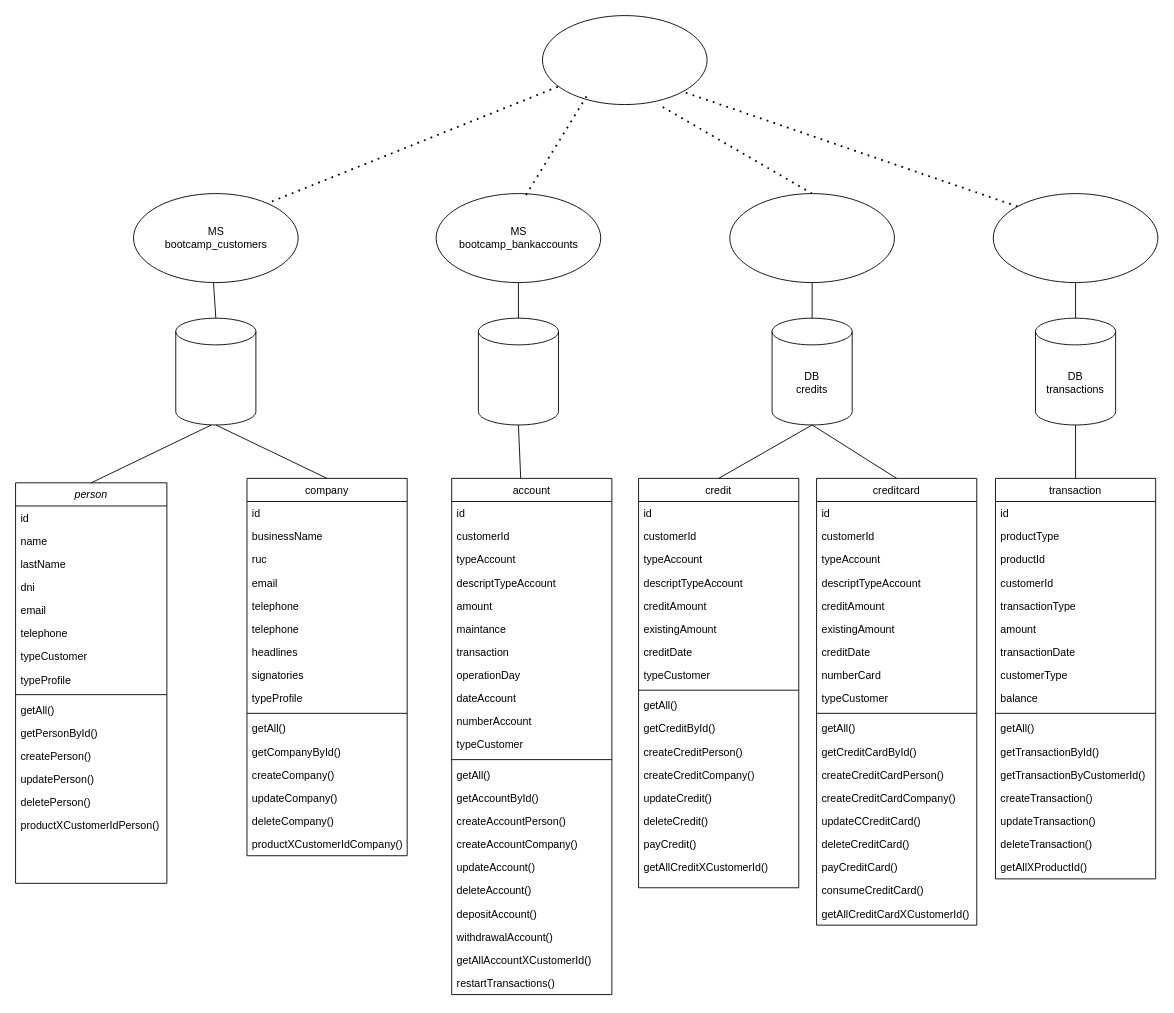
Image size: 1174x1013. Some labels were removed from this diagram. The shapes that lost their labels are listed below. From the top down, each one's box as (x1, y1, x2, y2) in pixels, then its label:
(542, 15, 707, 105): MS bootcamp_reports
(729, 193, 894, 283): MS bootcamp_credits
(992, 193, 1158, 283): MS bootcamp_transactions
(175, 317, 256, 425): DB customers
(477, 317, 558, 425): DB accounts
